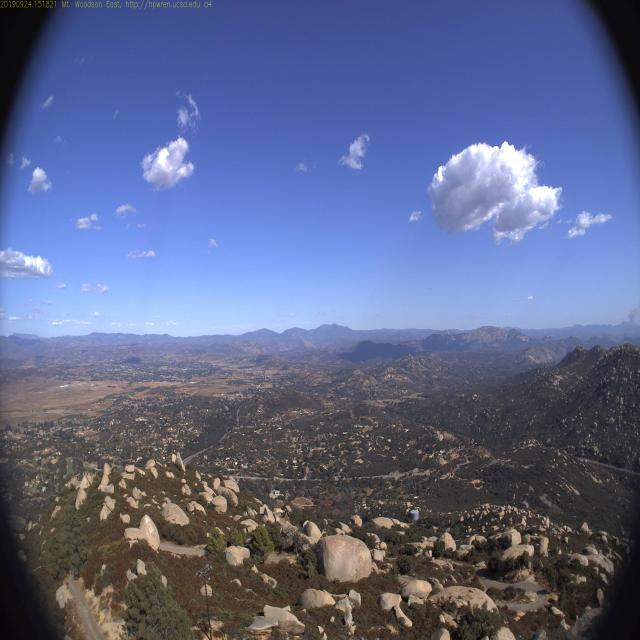smoke: (620, 296, 640, 336)
